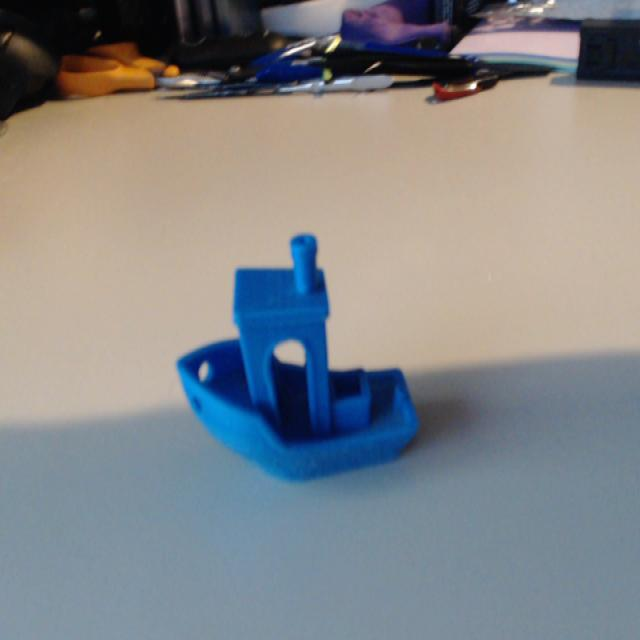benchy: (173, 229, 421, 483)
